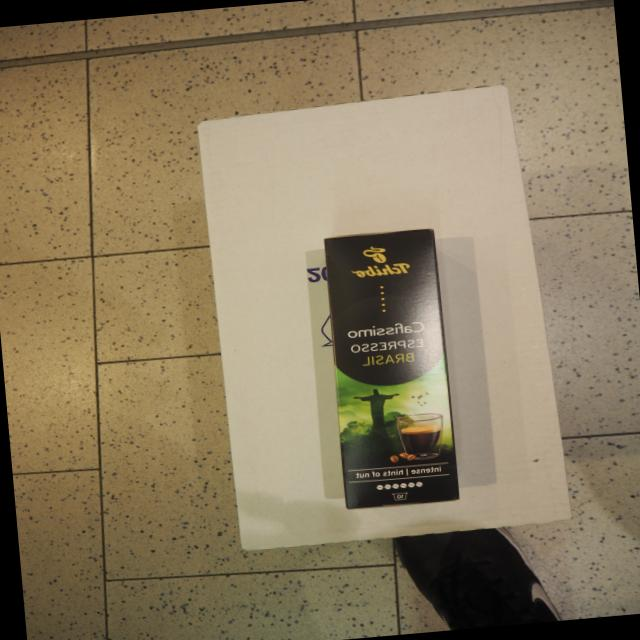Simo Es Brazil: (319, 226, 464, 510)
